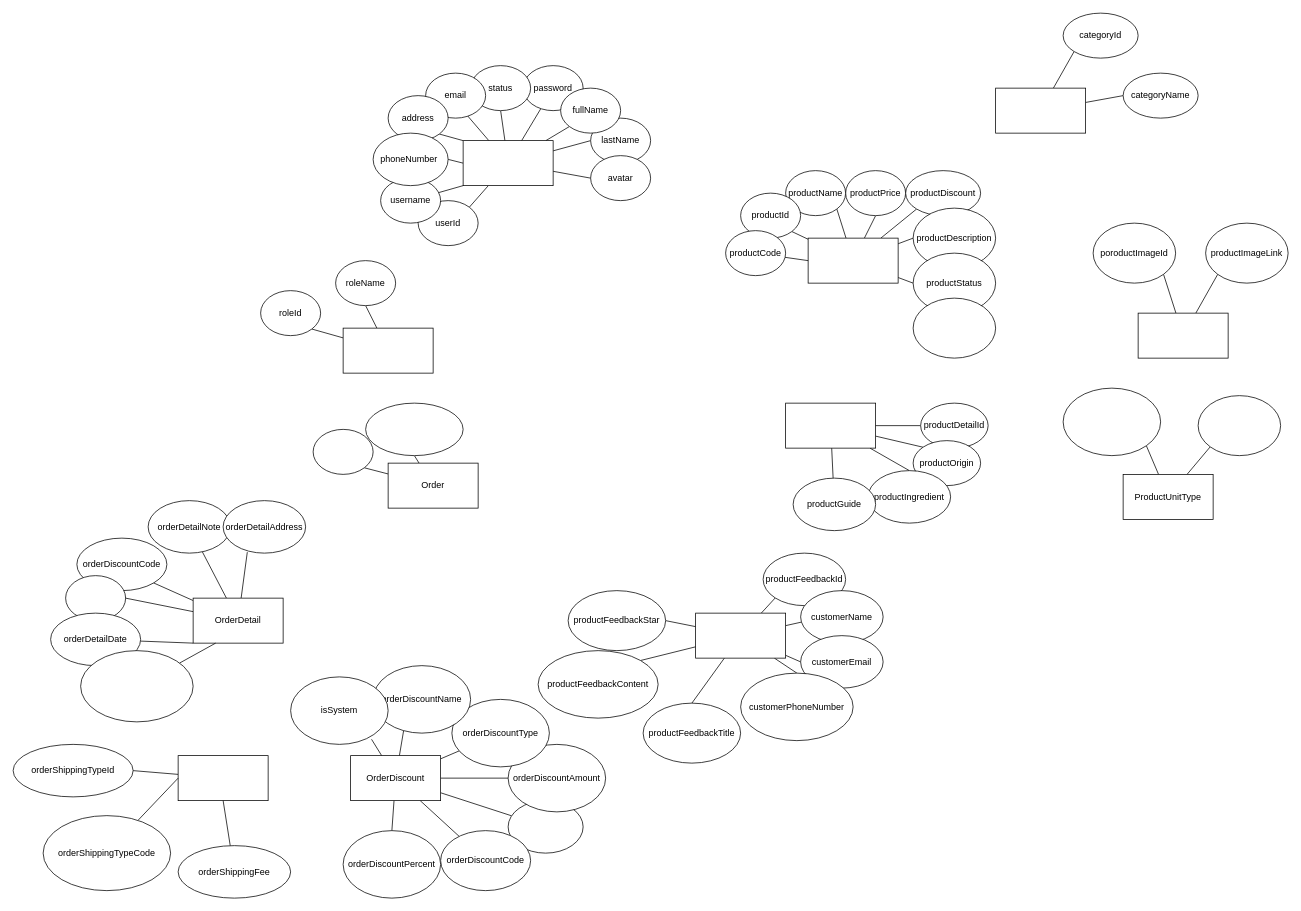
This 1301x911 diagram has some shape labels left out. Each missing label, with the box of its shape:
Category: (995, 87, 1086, 133)
orderDetailId: (65, 575, 126, 621)
orderDetailPhoneNumber: (80, 650, 193, 722)
orderDiscountId: (507, 800, 583, 853)
orderId: (312, 429, 373, 474)
OrderShippingType: (177, 755, 268, 801)
orderTotalAmount: (365, 402, 463, 456)
Product: (807, 237, 898, 283)
ProductDetail: (785, 402, 876, 448)
ProductFeedback: (695, 612, 786, 658)
ProductImage: (1137, 312, 1228, 358)
productQuantity: (912, 297, 996, 358)
productUnitTypeId: (1197, 395, 1281, 456)
productUnitTypeName: (1062, 387, 1161, 456)
Role: (342, 327, 433, 373)
User: (462, 140, 553, 186)
